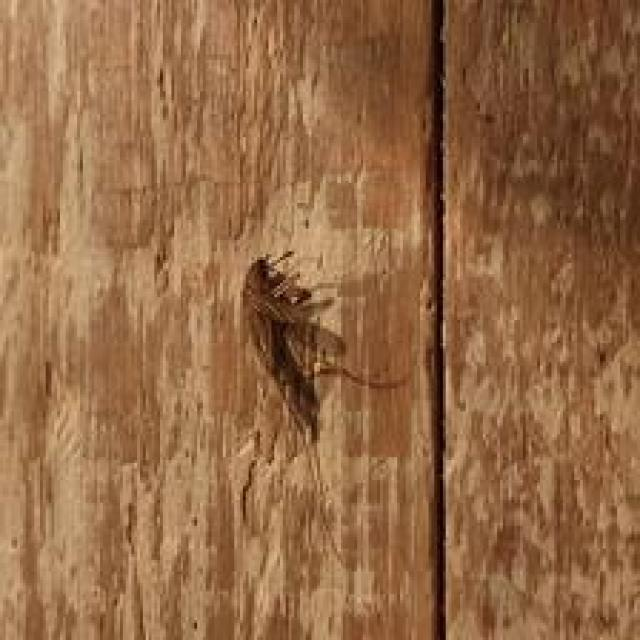Culex: (239, 248, 407, 446)
